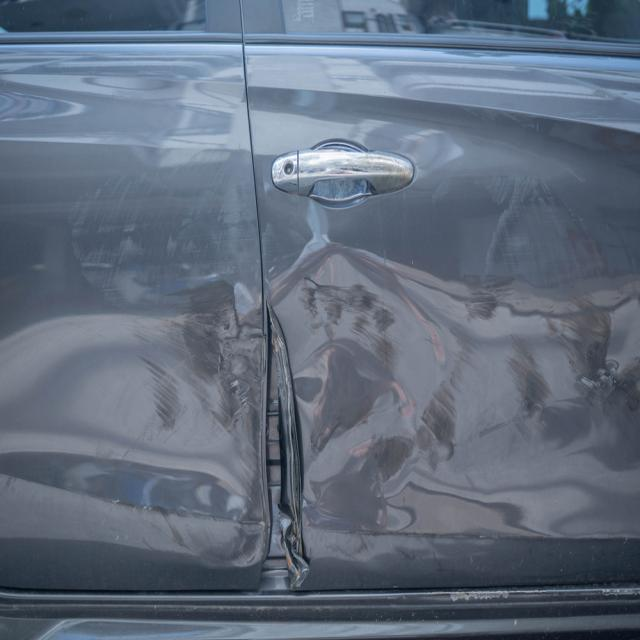dent: (272, 247, 640, 564), (0, 276, 265, 520)
